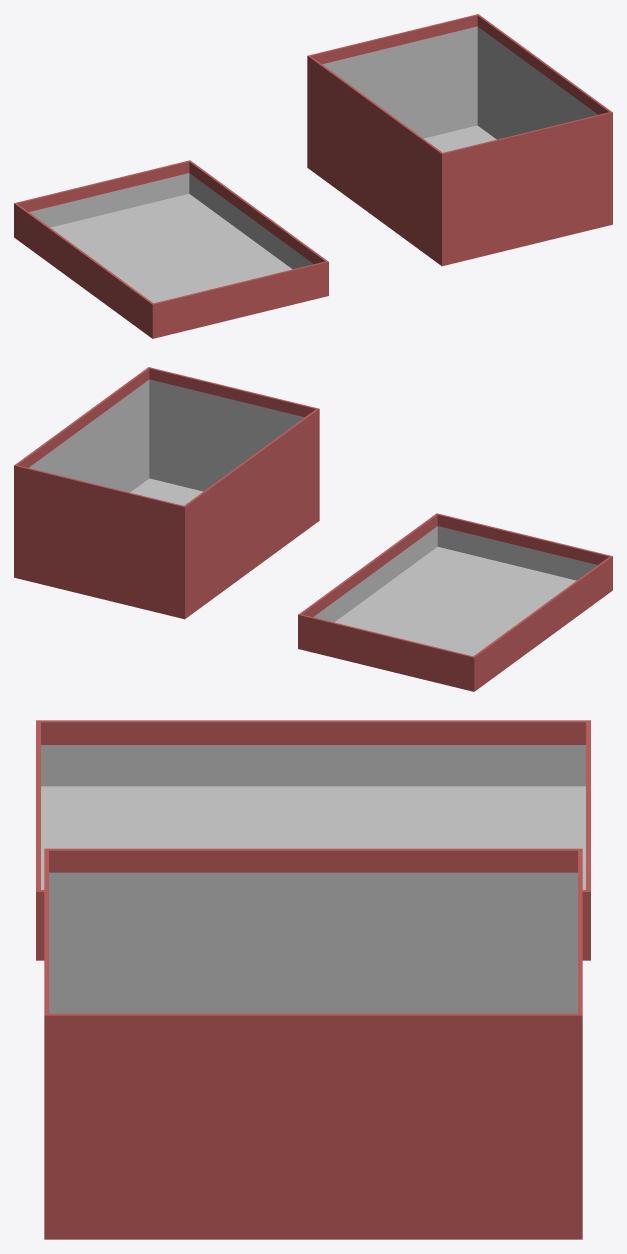
Rendered from Shoebox.fbx.
3 views of the same model, one above another, from view 1: azimuth 30°, elevation 25°; view 2: azimuth 150°, elevation 25°; view 3: azimuth 270°, elevation 25° (orthographic). The views are drawn at different scales.
Parts seen in each view (by area): view 1: Shoebox_Down, Shoebox_Top; view 2: Shoebox_Down, Shoebox_Top; view 3: Shoebox_Down, Shoebox_Top.
Part boxes in pixels (x1=…): Shoebox_Down: x1=307, y1=14, x2=612, y2=266; Shoebox_Top: x1=14, y1=160, x2=328, y2=338; Shoebox_Down: x1=14, y1=367, x2=319, y2=619; Shoebox_Top: x1=298, y1=513, x2=612, y2=691; Shoebox_Down: x1=44, y1=848, x2=582, y2=1239; Shoebox_Top: x1=36, y1=720, x2=590, y2=960.
Bounding box in the file's own units: 64.04 × 14.84 × 33.28.
